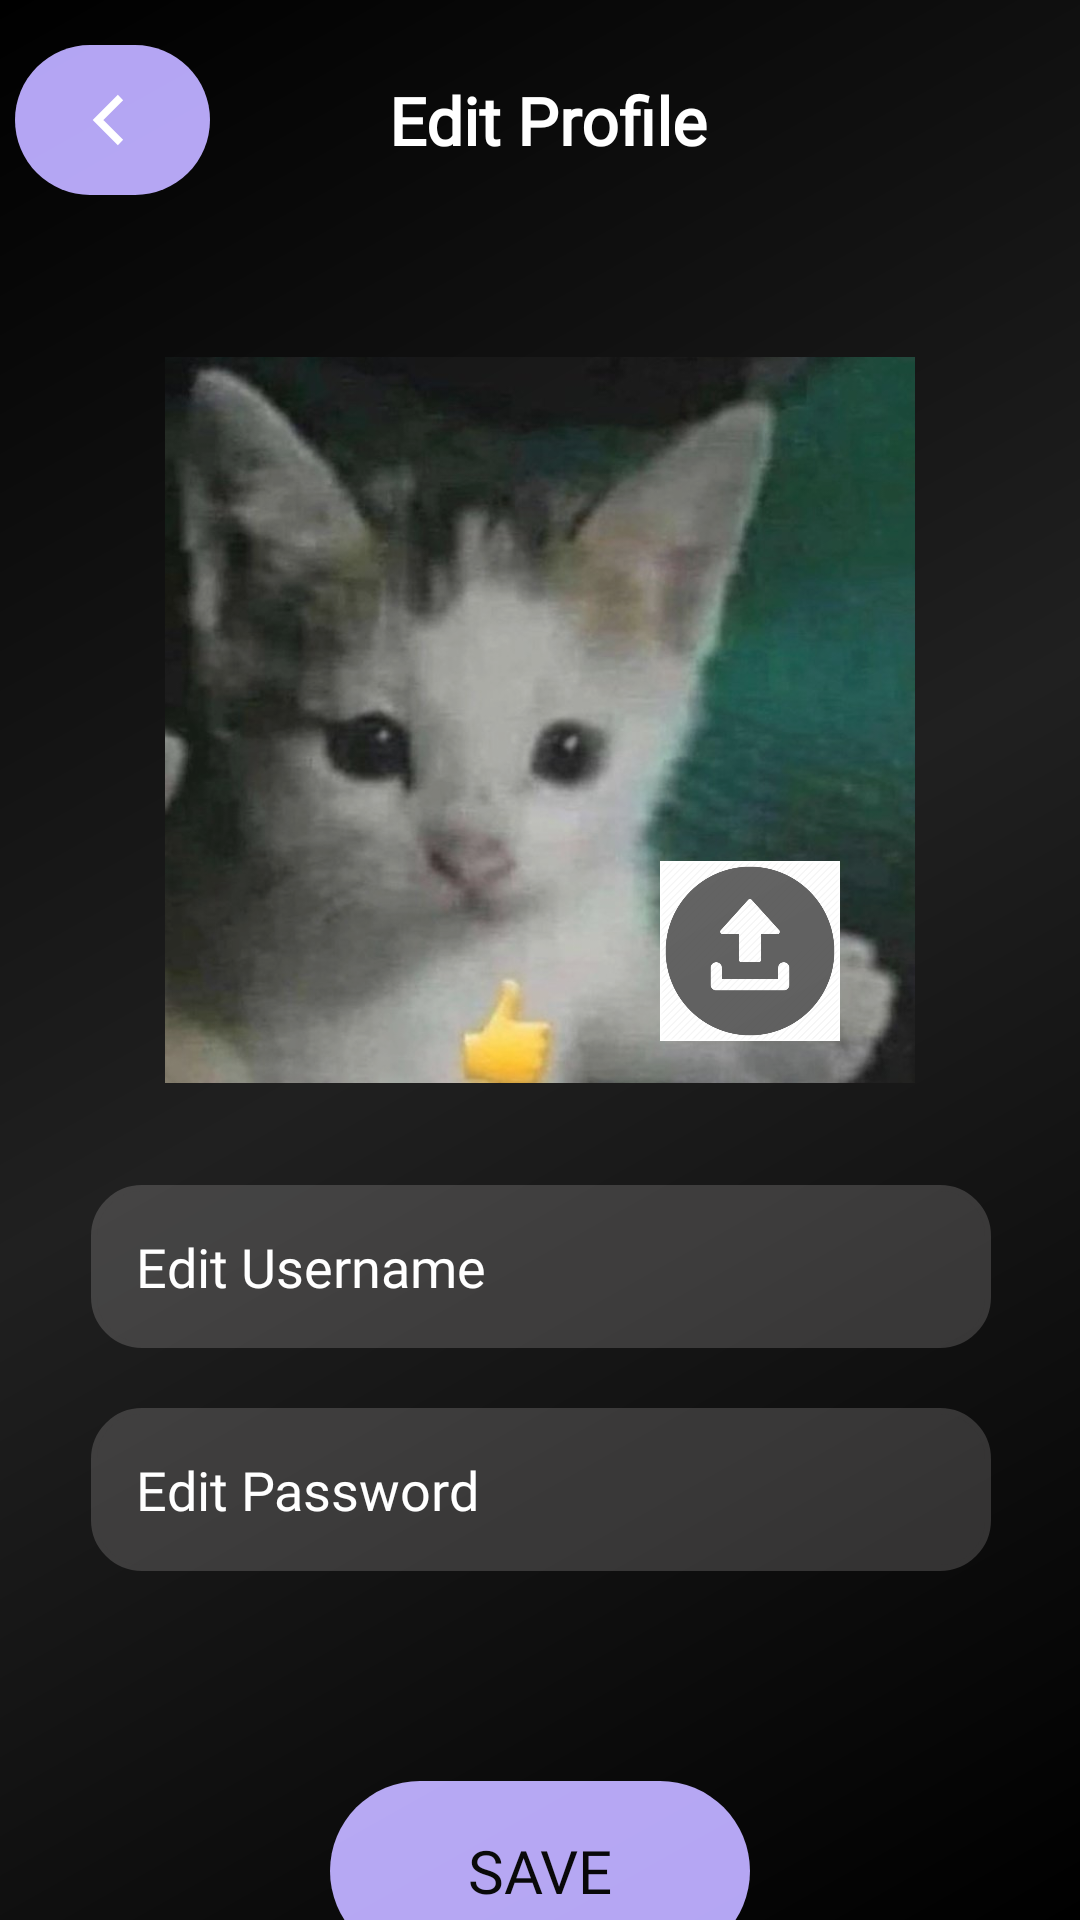

Point at icon controls on the screen. Image size 1080*1920, points as (x,y).
upload profile photo: (750,951)
